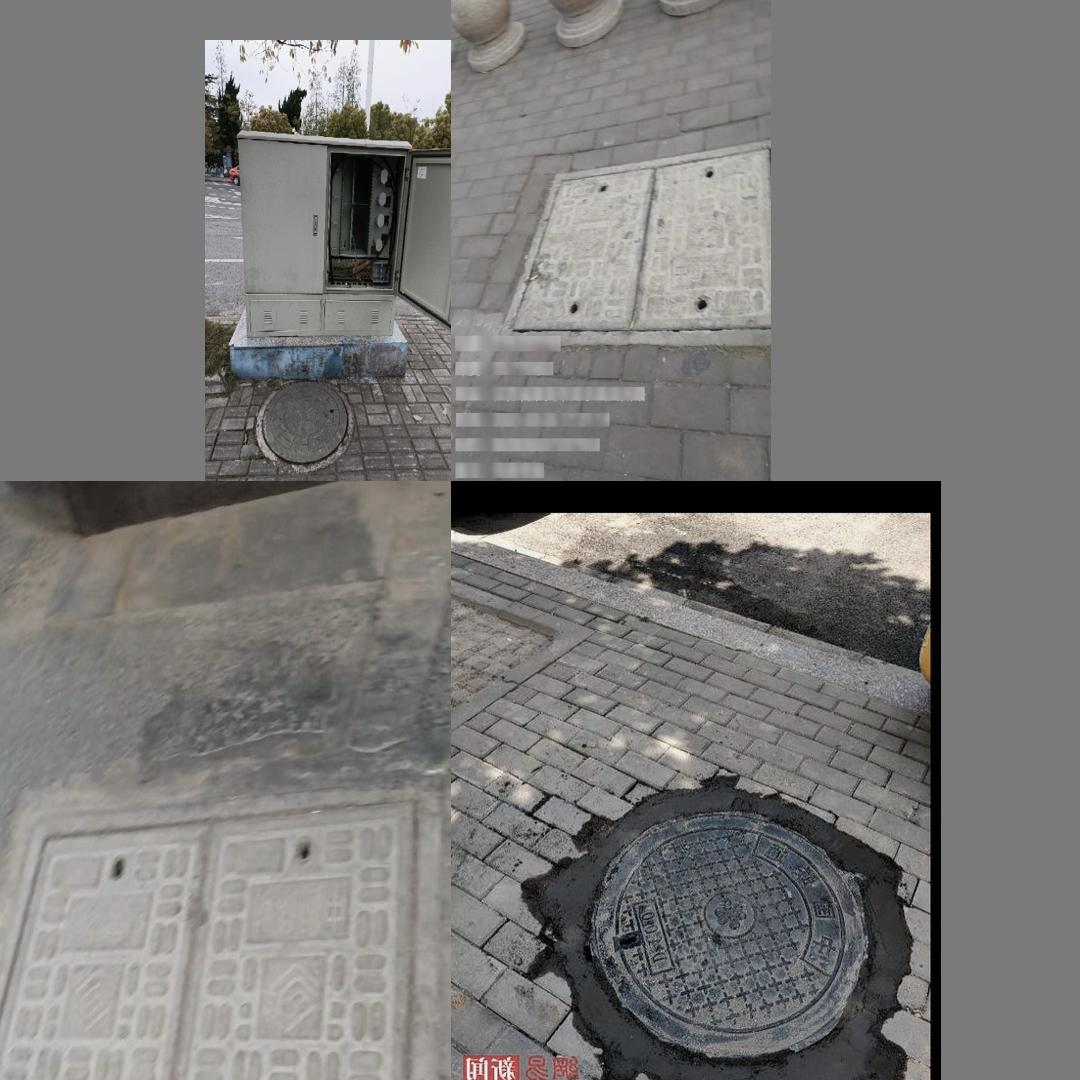good: (514, 767, 925, 1080), (0, 794, 434, 1080), (501, 138, 771, 346), (256, 377, 354, 474)
